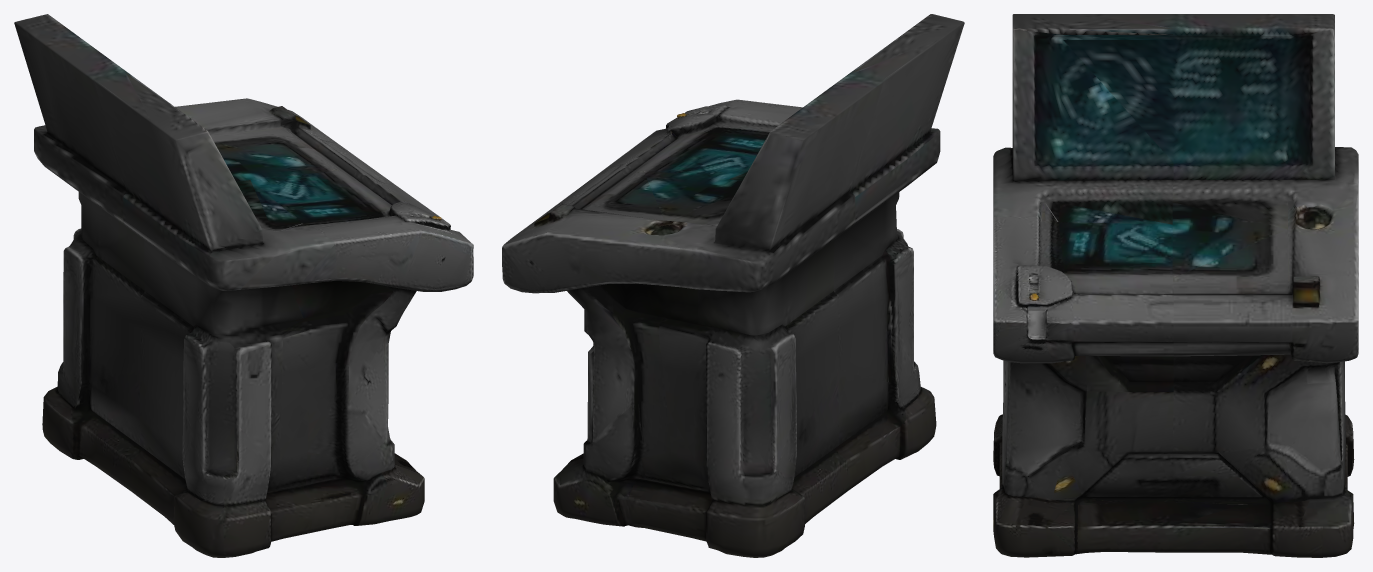
The model's file is prop_lab_terminal.glb.
3 views of the same model, side by side, from view 1: azimuth 30°, elevation 25°; view 2: azimuth 150°, elevation 25°; view 3: azimuth 270°, elevation 25° (orthographic).
Parts seen in each view (by area): view 1: tripo_node_cd0504c8-d5cd-4d72-9c28-bed58262b2c2; view 2: tripo_node_cd0504c8-d5cd-4d72-9c28-bed58262b2c2; view 3: tripo_node_cd0504c8-d5cd-4d72-9c28-bed58262b2c2.
Boxes of the visible parts, <box> form: tripo_node_cd0504c8-d5cd-4d72-9c28-bed58262b2c2: <box>14,14,473,557</box>; tripo_node_cd0504c8-d5cd-4d72-9c28-bed58262b2c2: <box>502,14,964,557</box>; tripo_node_cd0504c8-d5cd-4d72-9c28-bed58262b2c2: <box>993,14,1358,557</box>.
Bounding box in the file's own units: 0.7129 × 0.998 × 0.7754.
1 material, 1 textured.
